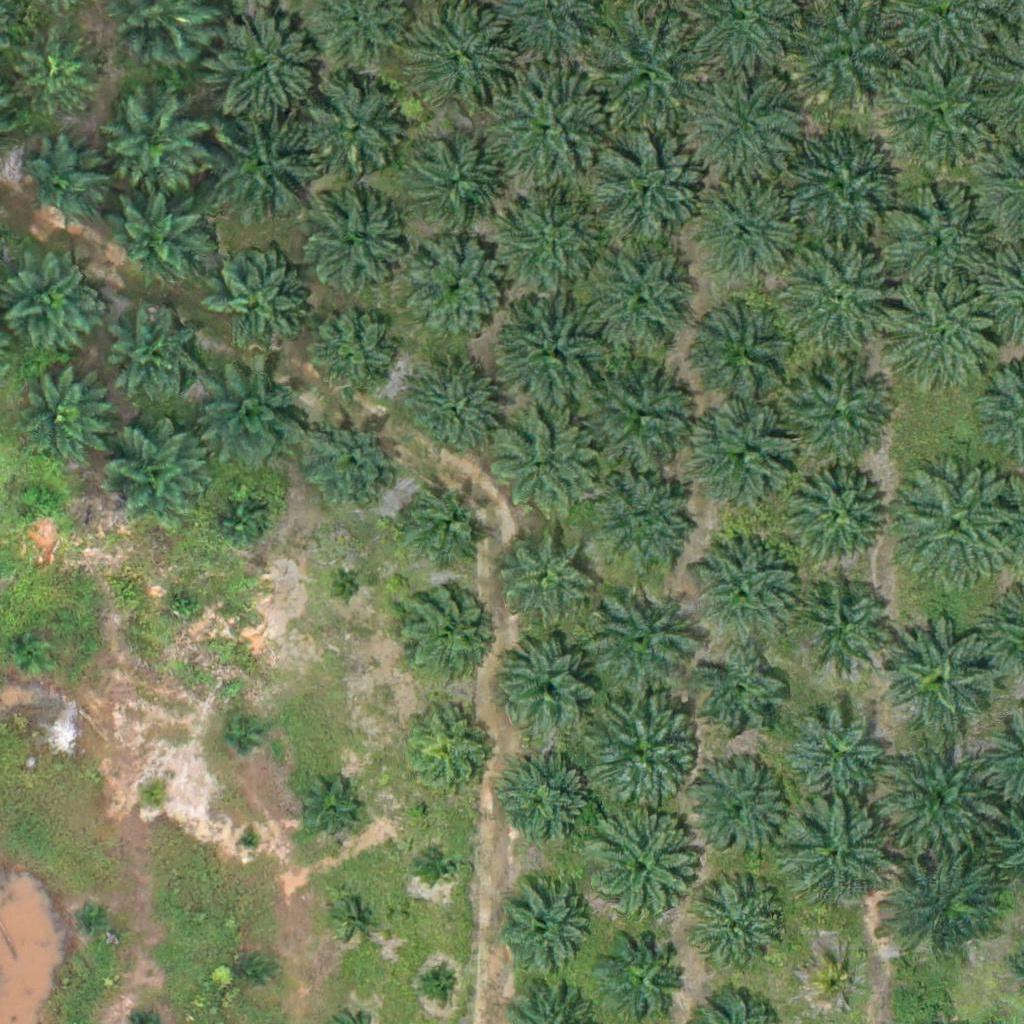Kelapa_Sawit: (488, 289, 613, 415), (485, 182, 610, 308), (485, 60, 610, 186), (585, 4, 710, 130), (586, 133, 711, 259), (579, 353, 704, 479), (681, 71, 806, 197), (779, 124, 904, 250), (775, 235, 900, 361), (883, 280, 1008, 406), (876, 182, 1001, 308), (891, 462, 1016, 588), (876, 732, 1001, 858), (884, 843, 1009, 969), (199, 2, 324, 127), (577, 690, 702, 815), (577, 809, 702, 934), (208, 113, 321, 226), (199, 362, 312, 475), (584, 246, 697, 359), (792, 6, 905, 119), (784, 801, 897, 914), (689, 536, 802, 649), (586, 467, 699, 580), (583, 585, 696, 698), (886, 613, 998, 727), (691, 296, 803, 409), (780, 362, 892, 475), (488, 412, 600, 525), (106, 186, 206, 287), (1, 255, 101, 356), (207, 253, 307, 354), (304, 201, 404, 302), (302, 80, 402, 181), (415, 10, 515, 111), (408, 239, 508, 340), (404, 364, 504, 465), (891, 59, 991, 160), (788, 702, 888, 803), (692, 648, 792, 749), (687, 757, 787, 858), (490, 518, 590, 619), (501, 635, 601, 736), (498, 754, 598, 855), (495, 882, 595, 983), (393, 473, 493, 574), (395, 579, 495, 680), (400, 700, 500, 801), (106, 427, 206, 528), (102, 96, 202, 196), (703, 191, 803, 291), (785, 464, 885, 564), (794, 572, 894, 672), (697, 408, 797, 508), (9, 367, 109, 467), (698, 886, 786, 975), (21, 140, 109, 228), (14, 32, 102, 120), (108, 310, 196, 398), (411, 144, 499, 232), (308, 418, 395, 507), (307, 311, 394, 399), (295, 781, 358, 844), (214, 495, 264, 546), (814, 960, 864, 1010), (231, 953, 269, 991), (23, 481, 61, 519), (14, 632, 52, 670), (166, 588, 204, 626), (328, 569, 366, 607), (134, 778, 172, 816), (425, 847, 463, 885), (419, 964, 456, 1002), (337, 897, 374, 935), (218, 717, 255, 755), (77, 899, 114, 936), (237, 827, 262, 852)
